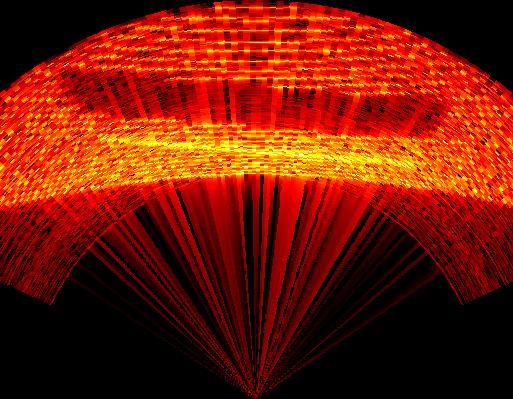pipe: (58, 72, 457, 142)
